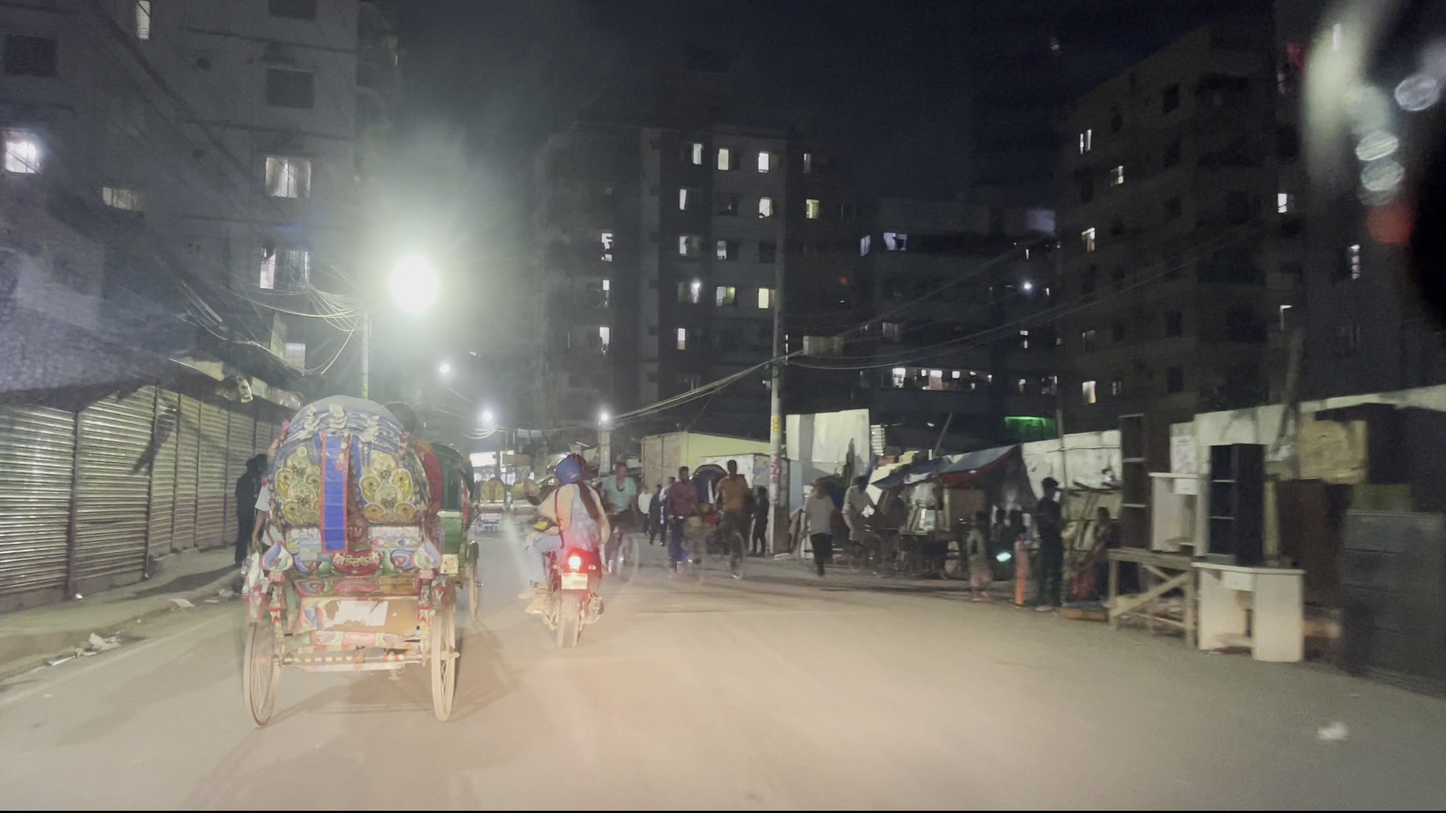bicycle: (653, 510, 724, 590), (715, 516, 757, 588)
person: (560, 452, 620, 626), (517, 440, 572, 629), (1024, 477, 1076, 638), (222, 455, 278, 568), (796, 472, 845, 592), (660, 460, 706, 552), (959, 505, 1003, 599), (846, 471, 879, 544), (715, 463, 752, 523), (610, 457, 645, 517)
